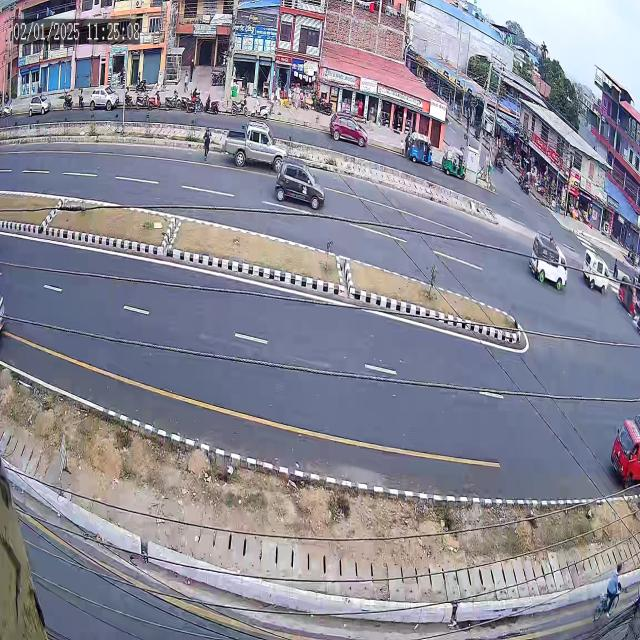auto: (615, 271, 638, 323)
car: (276, 150, 329, 232)
van: (520, 228, 574, 304), (580, 239, 612, 310)
